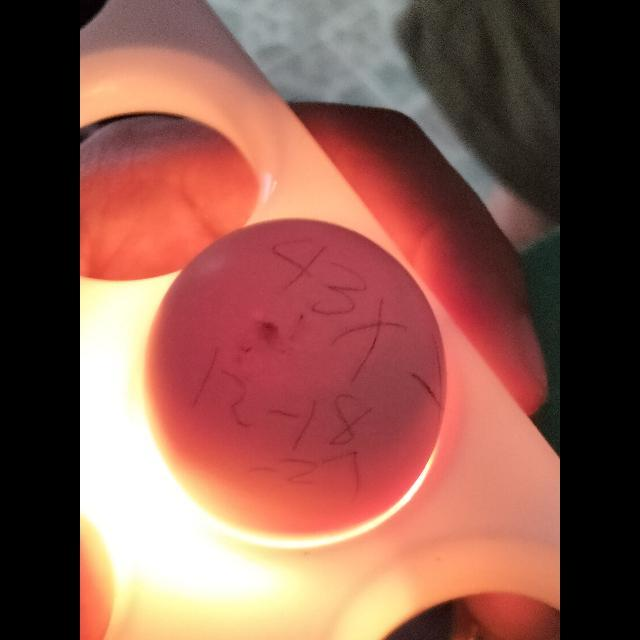Fertile: (136, 223, 450, 511)
